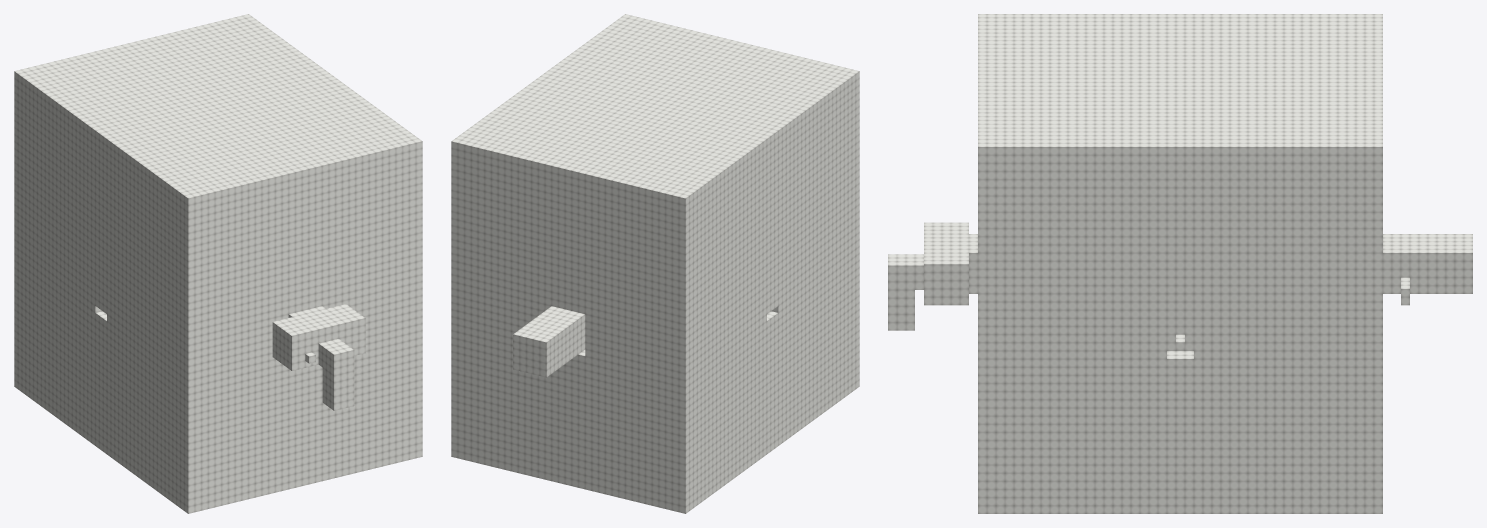
File: pitJump.fbx
3 views of the same model, side by side, from view 1: azimuth 30°, elevation 25°; view 2: azimuth 150°, elevation 25°; view 3: azimuth 270°, elevation 25° (orthographic). The views are drawn at different scales.
Visible parts, largest first — view 1: pitJump; view 2: pitJump; view 3: pitJump.
Part boxes in pixels (x1=…): pitJump: x1=14, y1=14, x2=422, y2=513; pitJump: x1=451, y1=14, x2=859, y2=513; pitJump: x1=888, y1=14, x2=1472, y2=513.
Bounding box in the file's own units: 65 × 37 × 45.01.
2 materials, 1 textured.
